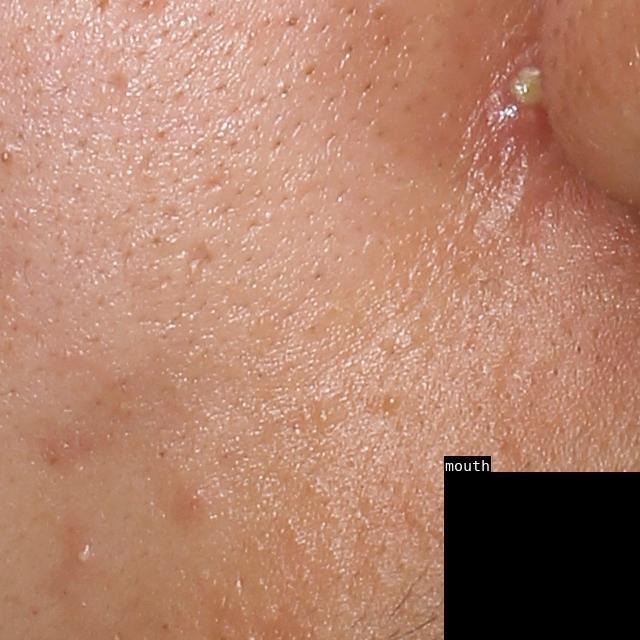atrophic_scar: (100, 68, 133, 111), (185, 242, 217, 286)
comedo: (387, 394, 400, 411)
papule: (168, 482, 217, 522)
pustule: (502, 60, 550, 117), (68, 542, 97, 567)
